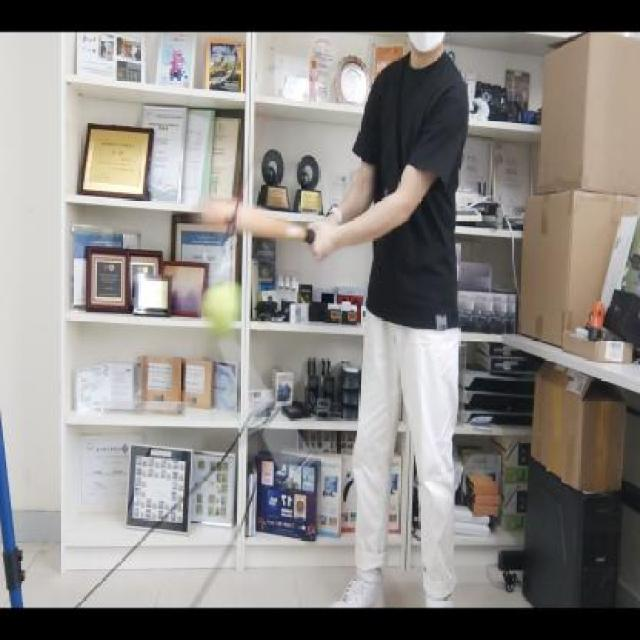baseball: (200, 271, 246, 331)
